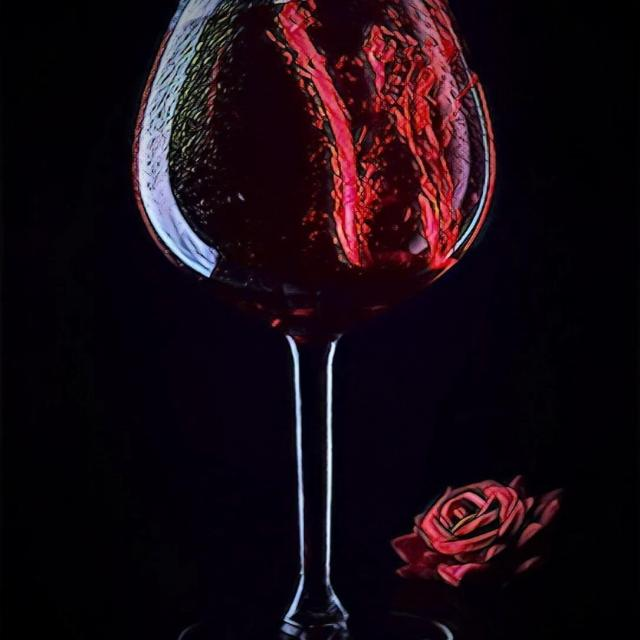glass-wine: (127, 0, 507, 640)
